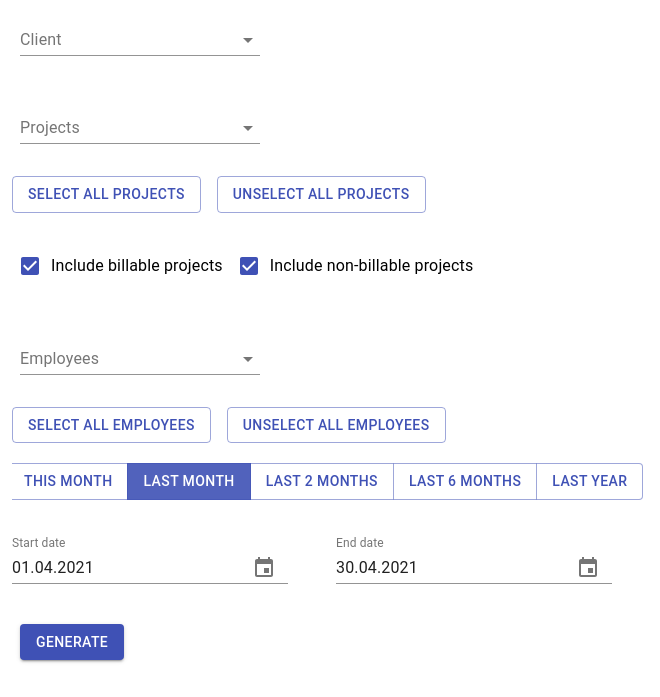
Test: billing report form › selecting projects and employees › selecting and unselecting all projects › should select all projects with select all projects button
This screenshot has width=660, height=697.
Expected: the text "Generate" is shown, [36,630,108,654]
Press the mouse on the button named "Client" next to "Client" at (140,40), box [20,24,260,56]
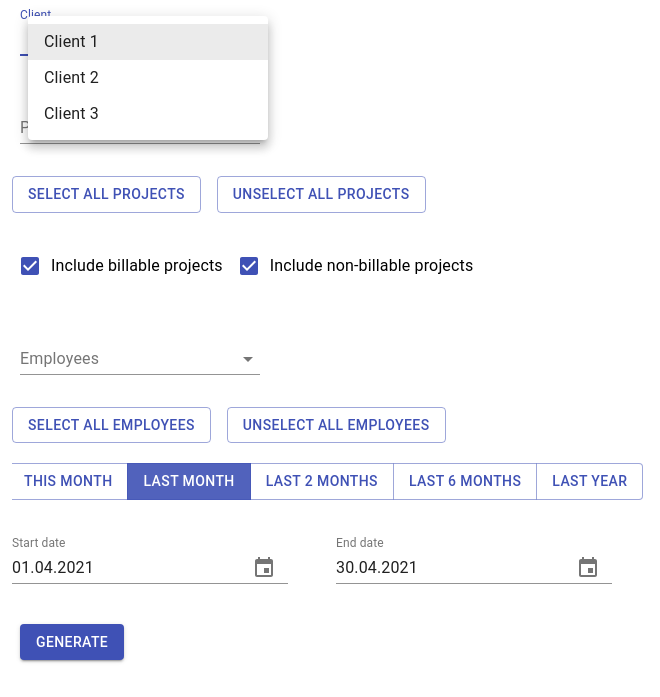
Click the option "Client 1".
click(148, 42)  # box [28,24,268,60]
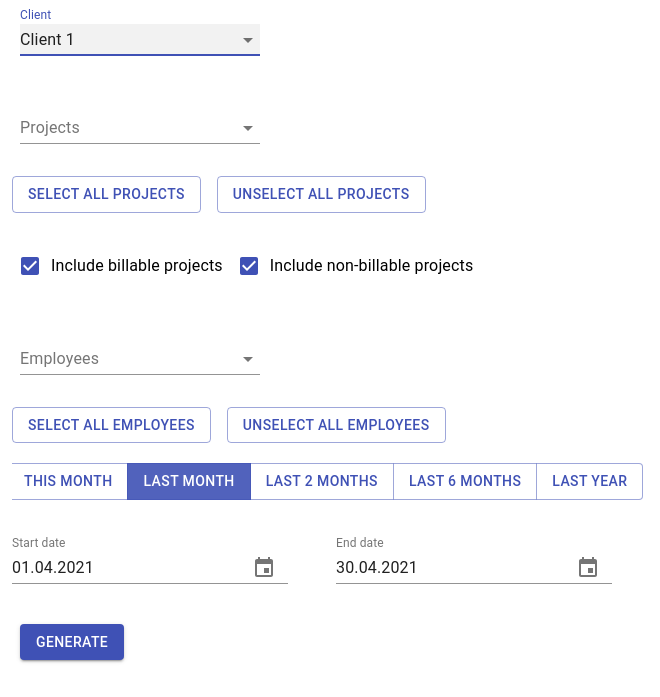
Now the text "Client 1" is shown, box [20,30,75,49]
Click the button "Select all projects".
click(106, 194)  # box [12,176,201,212]
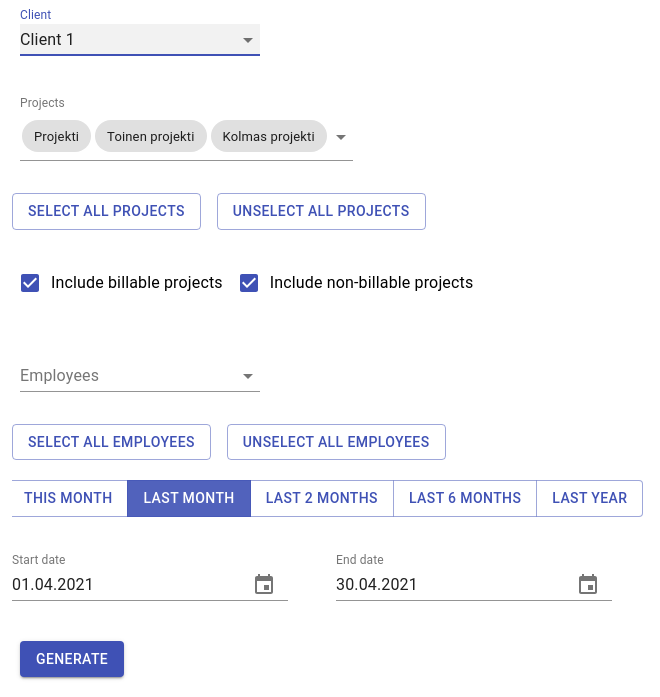
Now the text "Projekti" is shown, box [34,128,79,144]
Now the text "Toinen projekti" is shown, box [107,128,194,144]
Now the text "Kolmas projekti" is shown, box [222,128,315,144]
